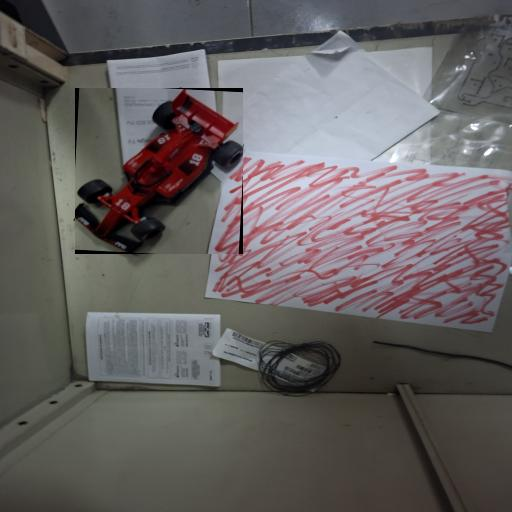carro: (75, 89, 243, 253)
